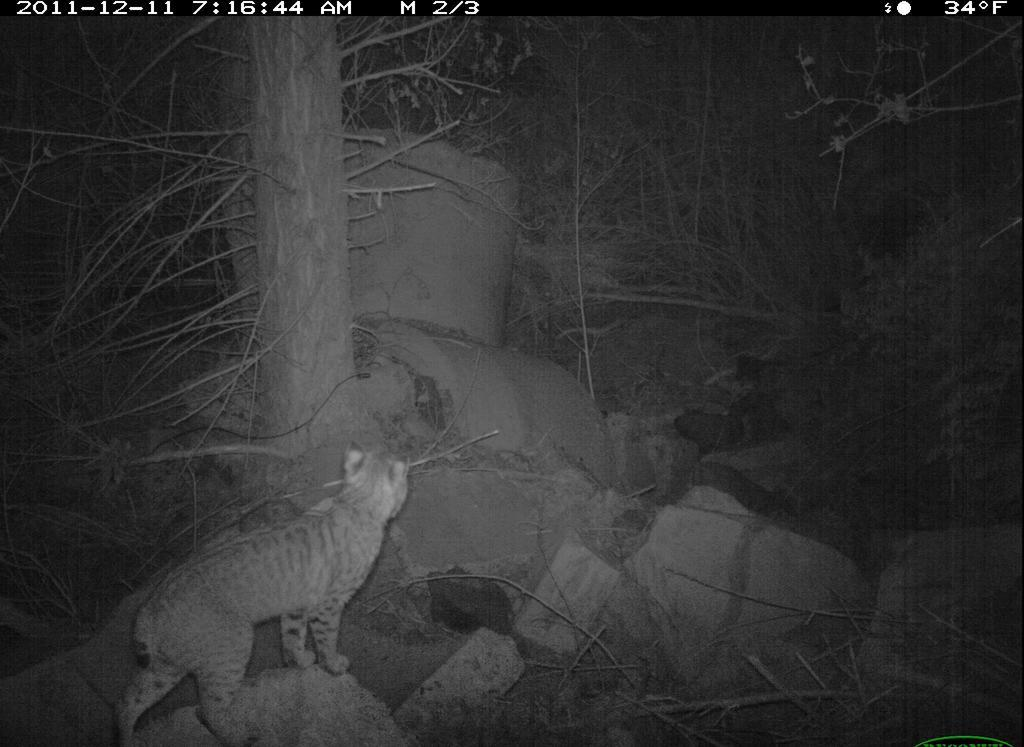bobcat: (102, 442, 415, 744)
